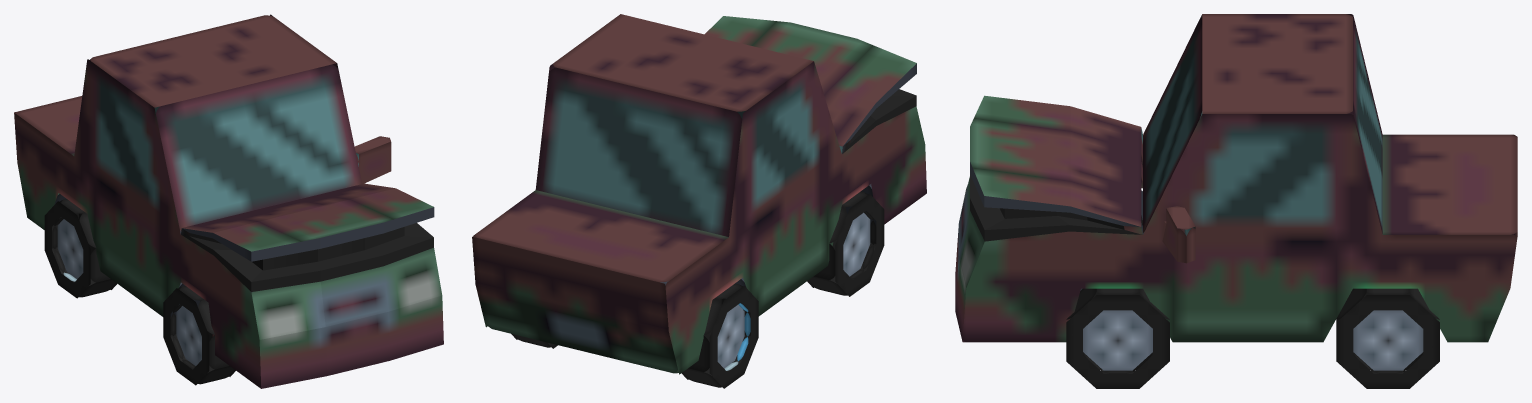
Rendered from truck_2.fbx.
3 renders of one model, left to right at view 1: azimuth 30°, elevation 25°; view 2: azimuth 150°, elevation 25°; view 3: azimuth 270°, elevation 25°, orthographic. The views are drawn at different scales.
Parts seen in each view (by area): view 1: cuboid, cylinder, cylinder_1, cuboid_1; view 2: cuboid, cylinder, cylinder_1; view 3: cuboid, cylinder_3, cylinder_2, cuboid_1.
Part boxes in pixels (box(x1,y1,x2,y2)): cuboid: box(14, 14, 443, 388); cylinder: box(44, 199, 116, 298); cylinder_1: box(163, 286, 235, 385); cuboid_1: box(354, 136, 391, 183); cuboid: box(472, 14, 926, 374); cylinder: box(681, 283, 758, 388); cylinder_1: box(807, 191, 884, 296); cuboid: box(955, 14, 1517, 342); cylinder_3: box(1336, 288, 1439, 388); cylinder_2: box(1066, 288, 1169, 388); cuboid_1: box(1162, 206, 1195, 263).
Size of the model in its own units: 128 by 127 by 238.
1 material, 1 textured.
